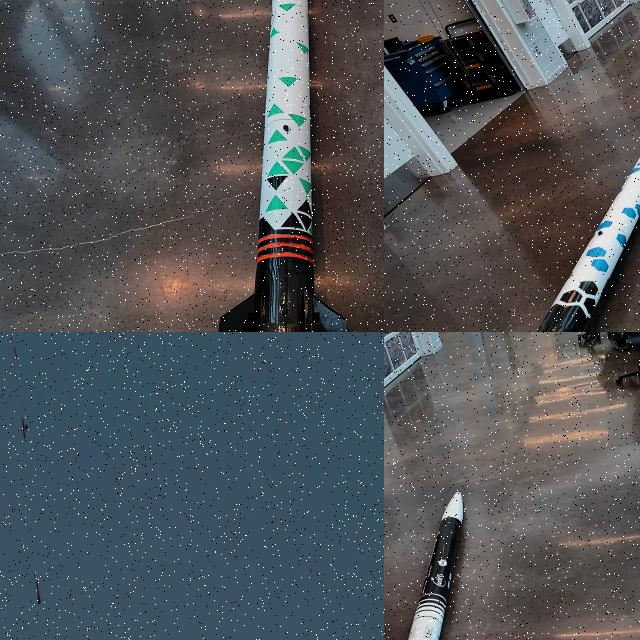Rocket: (218, 0, 347, 332), (535, 156, 640, 332), (35, 581, 42, 605)
